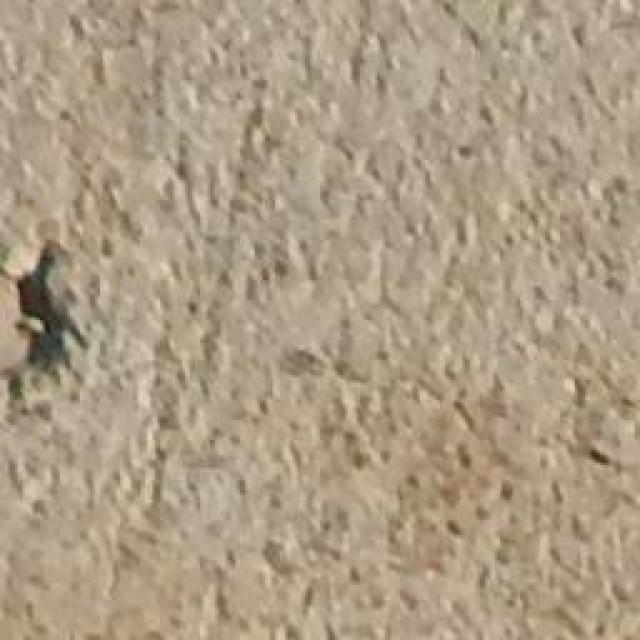concrete-crack: (0, 236, 102, 422)
